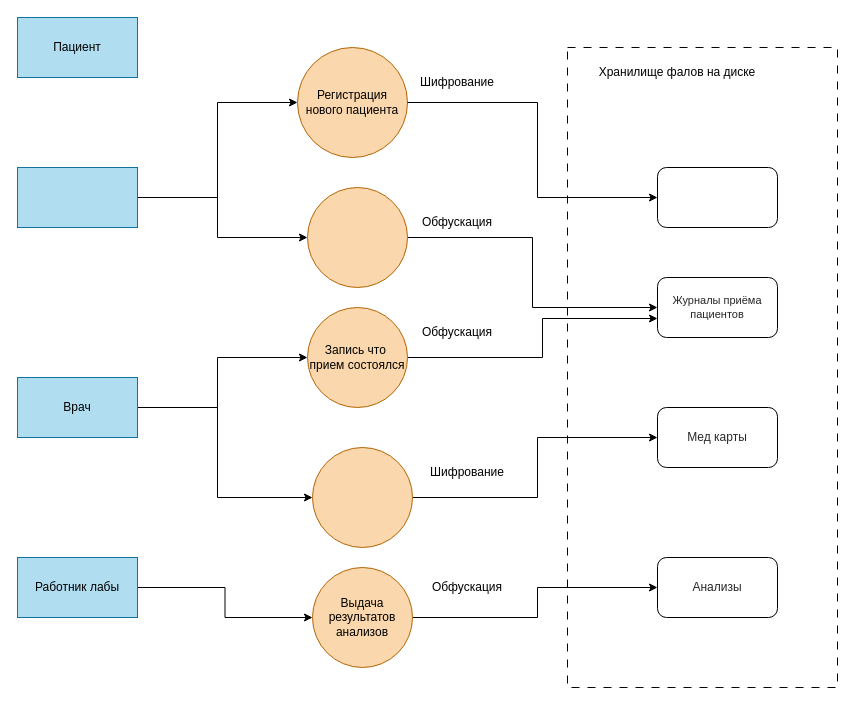
The diagram is 855 pixels wide and 705 high, and some of its shapes have lost their labels. Each missing label, with the box of its shape:
Данные пациетнов: (656, 166, 778, 228)
Запись на прием: (306, 186, 408, 288)
Запись результатов приема: (312, 446, 412, 548)
Сотрудник ресепшена: (16, 166, 138, 228)
